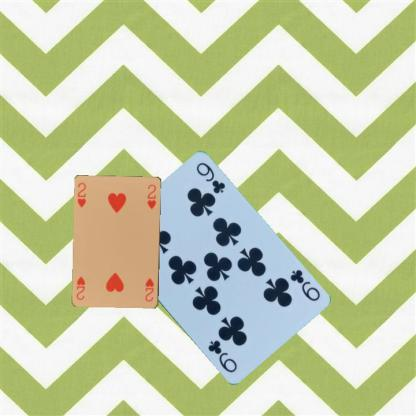2h: (75, 180, 87, 209), (143, 275, 155, 302)
9c: (287, 266, 321, 303)
